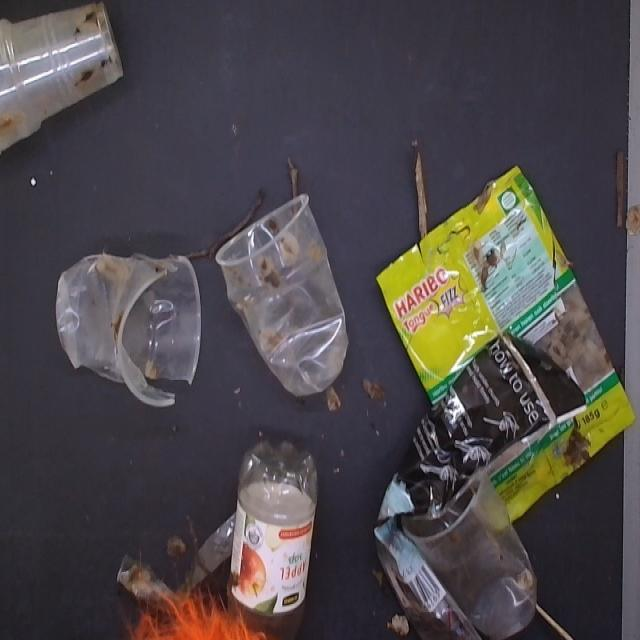food_wrapping: (378, 163, 638, 530)
pet_pottles: (234, 433, 317, 640)
plastic_cups: (210, 190, 364, 412), (55, 234, 204, 419), (408, 450, 536, 640)
